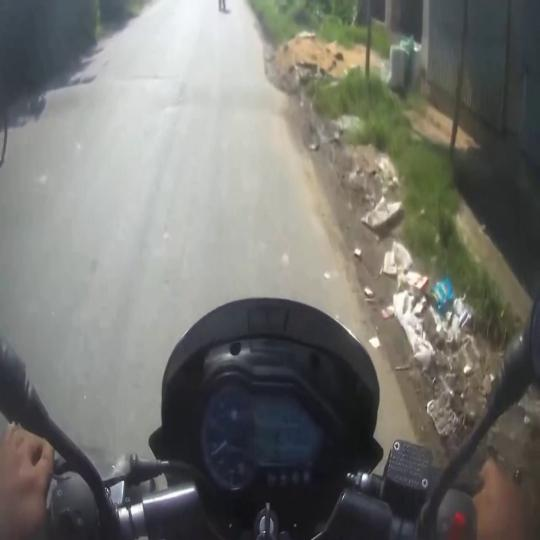Speed Bump: (0, 76, 289, 126)
